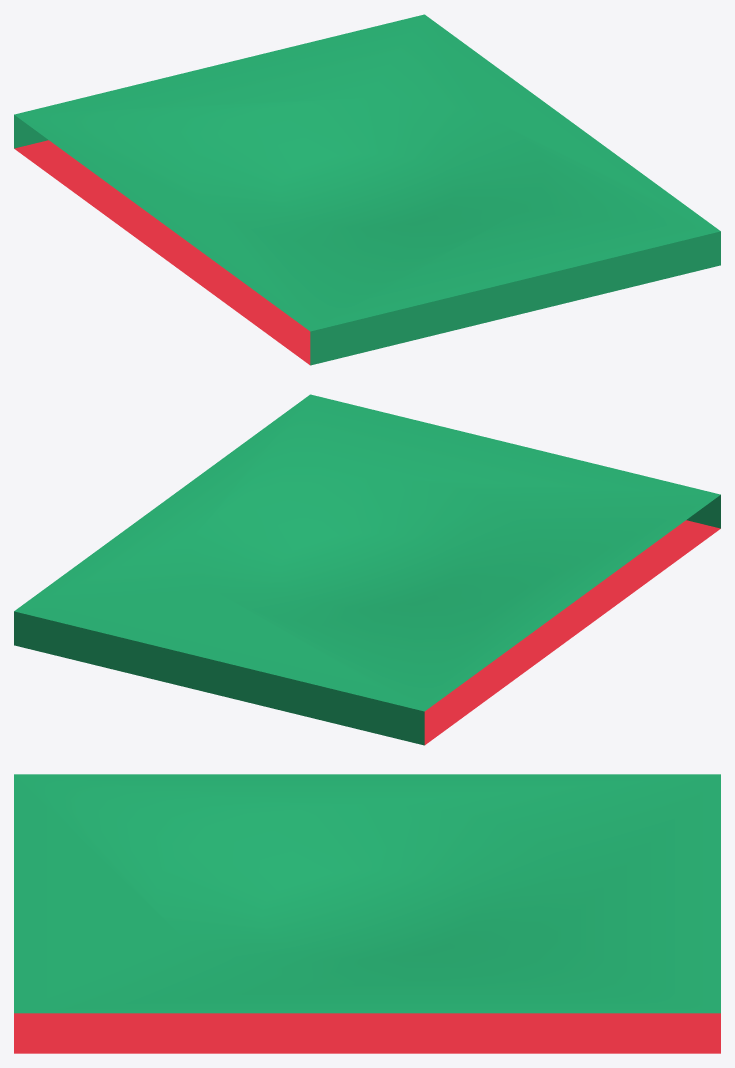
File: bumpdownwalls base.FBX
The picture shows the model from 3 angles, top to bottom: view 1: azimuth 30°, elevation 25°; view 2: azimuth 150°, elevation 25°; view 3: azimuth 270°, elevation 25°; orthographic projection. The views are drawn at different scales.
Visible parts, largest first — view 1: bumpDownWalls; view 2: bumpDownWalls; view 3: bumpDownWalls.
Boxes of the visible parts, x1=… form: bumpDownWalls: x1=14, y1=14, x2=720, y2=365; bumpDownWalls: x1=14, y1=394, x2=720, y2=745; bumpDownWalls: x1=14, y1=774, x2=720, y2=1053.
Size of the model in its own units: 79.99 by 6.33 by 99.99.
